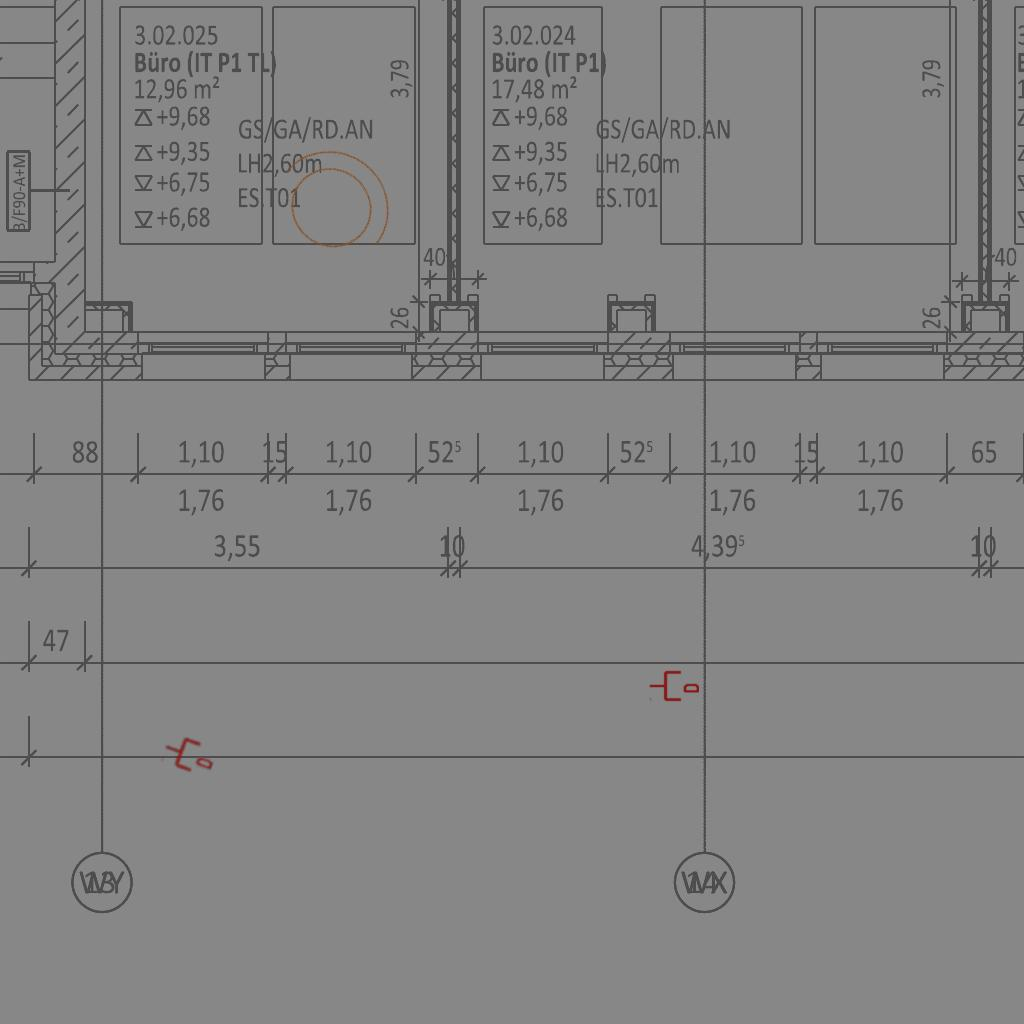Datenanschluss_einfach: (159, 730, 219, 780), (649, 669, 699, 703)
Scheinwerfer_fuer_Alarmbeleuchtung: (245, 117, 419, 287)
